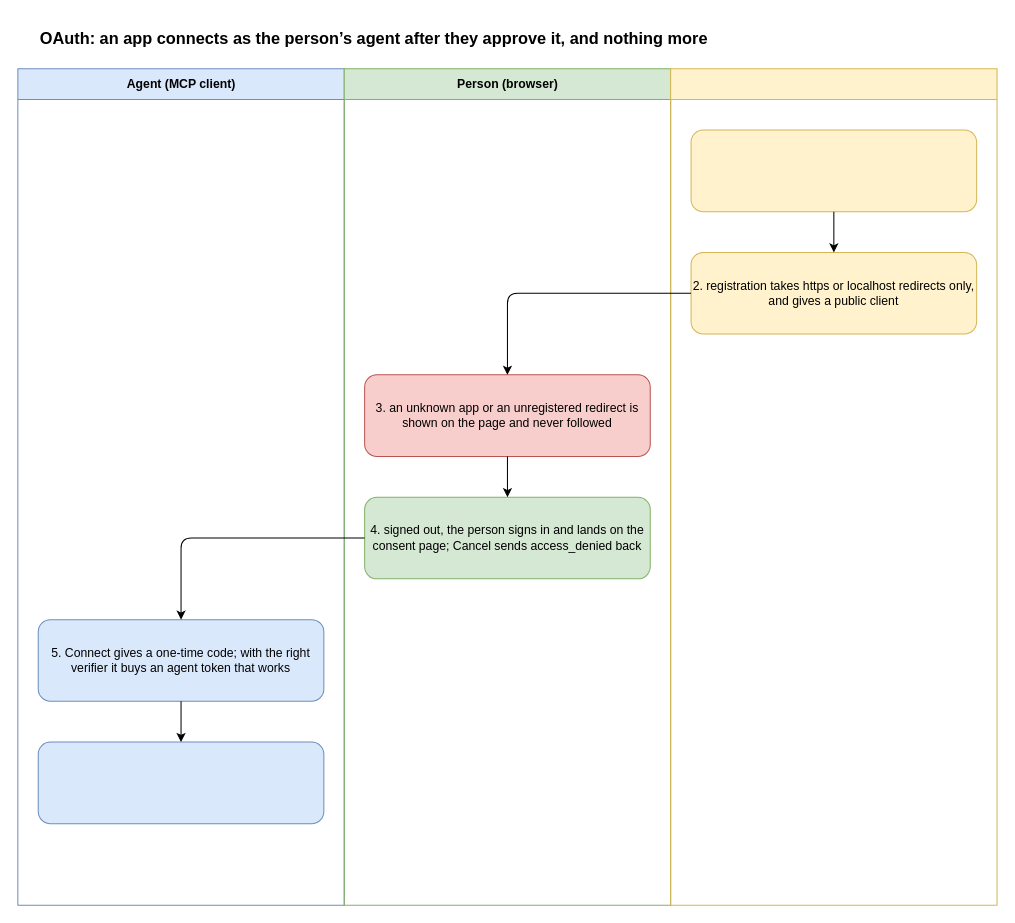
Some shapes in this 1015 by 923 pixel diagram are drawn without their labels. Each missing label, with the box of its shape:
1. an app without a token finds the server and its endpoints from the 401: (690, 129, 977, 212)
6. a refresh token rotates the connection once; reused later, it ends it: (37, 741, 324, 824)
Relay: (670, 68, 997, 905)
